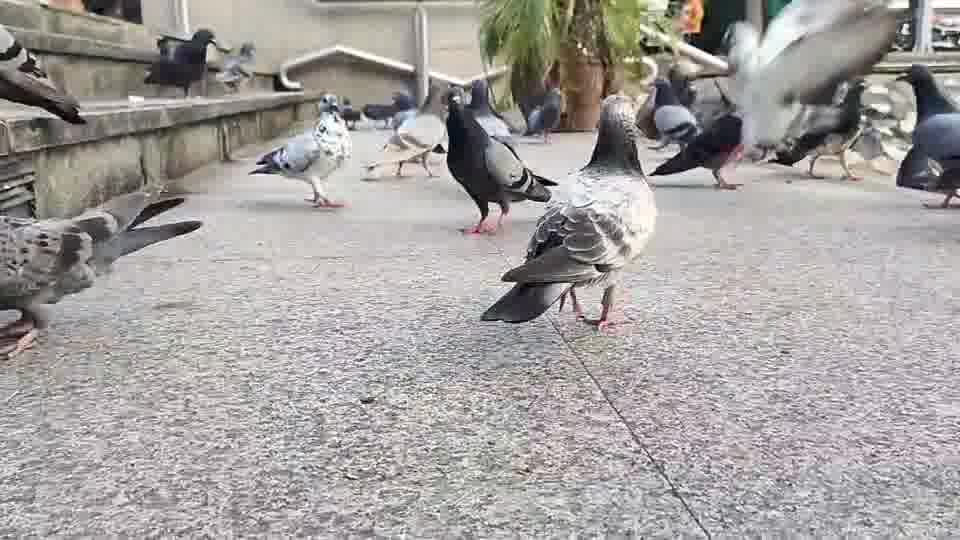Pigeon: (479, 93, 657, 326), (0, 188, 202, 360), (720, 0, 899, 164), (440, 88, 558, 235), (247, 95, 352, 208), (766, 77, 871, 180), (894, 62, 959, 208), (0, 25, 87, 125), (646, 105, 745, 190), (142, 27, 225, 97), (359, 125, 447, 180), (517, 86, 563, 144), (360, 90, 416, 129), (216, 40, 256, 94), (317, 92, 361, 130)
